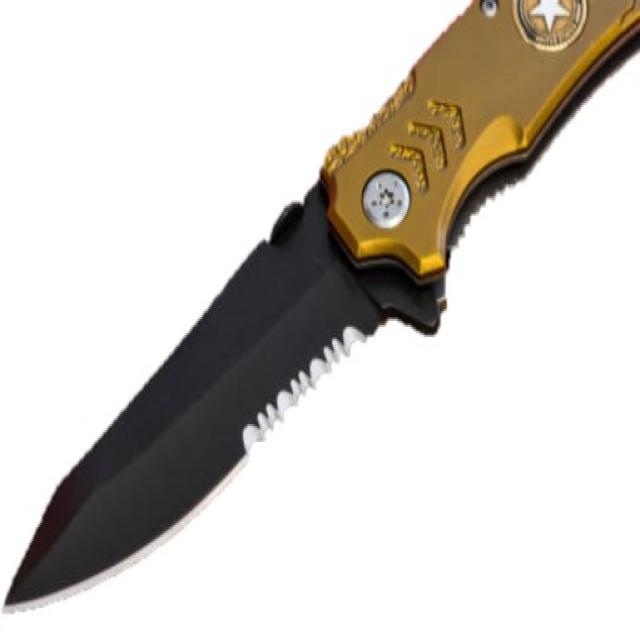knife: (1, 1, 640, 625)
